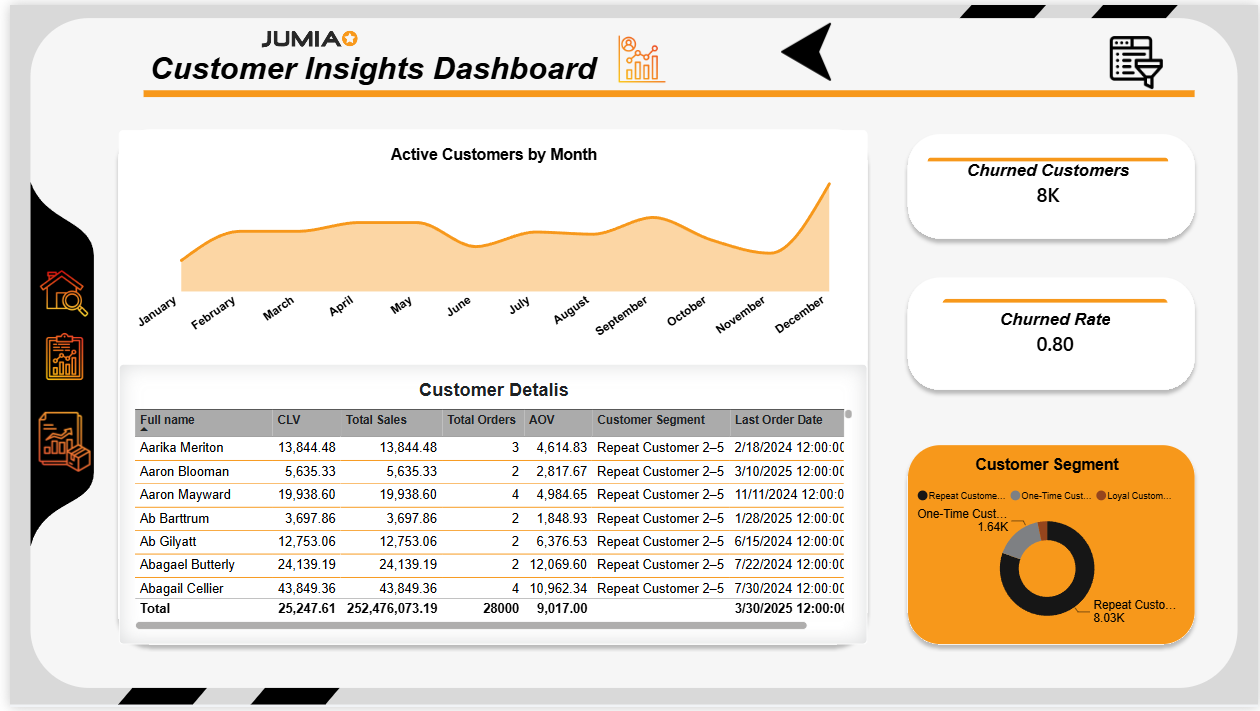

What the dashboard file says about the page in this screenshot:
{"tool":"powerbi","page":{"name":"Customer 2","canvas":[1280,720],"ordinal":3},"visuals":[{"type":"cardVisual","fields":{"Data":["customers.Churned Customers"]},"box":[928,144,272,80],"z":0},{"type":"tableEx","title":"Customer Detalis","fields":{"Values":["customers.Full name","customers.CLV","orders.Total Sales","orders.Total Orders","address.AOV","customers.Customer  Segment","customers.Last Order Date"]},"box":[112,368,768,288],"z":1000},{"type":"image","box":[193.5,0,223.7,68.6],"z":2000},{"type":"textbox","box":[96.5,52,300,150],"z":3000},{"type":"textbox","box":[144,48,576,64],"z":4000},{"type":"image","box":[560,16,176,80],"z":5000},{"type":"cardVisual","fields":{"Data":["customers.Churned Rate"]},"box":[944,288,256,96],"z":6000},{"type":"donutChart","title":"Customer  Segment","fields":{"Category":["customers.Customer  Segment"],"Y":["Count(customers.CustomerID)"]},"box":[912,448,304,208],"z":7000},{"type":"lineChart","fields":{"Y":["customers.Active Customers"],"Category":["calendar.DATE.Variation.Date Hierarchy.Month"]},"box":[112,128,768,240],"z":8000},{"type":"image","box":[720,0,192,96],"z":9000},{"type":"image","box":[1087.4,16.1,135.3,84.4],"z":10000},{"type":"image","box":[16,240,80,112],"z":18000},{"type":"image","box":[0,320,112,80],"z":19000},{"type":"image","box":[0,400,112,96],"z":20000}]}

Visuals, with their boxes in screenshot pixels (x1, y1, x2, y2), scaled from the page's 1280x720 canvas onto the 1260x711 screenshot:
cardVisual - customers.Churned Customers: [left=914, top=142, right=1181, bottom=221]
"Customer Detalis" tableEx: [left=110, top=363, right=866, bottom=648]
image: [left=190, top=0, right=411, bottom=68]
textbox: [left=95, top=51, right=390, bottom=199]
textbox: [left=142, top=47, right=709, bottom=111]
image: [left=551, top=16, right=724, bottom=95]
cardVisual - customers.Churned Rate: [left=929, top=284, right=1181, bottom=379]
"Customer  Segment" donutChart: [left=898, top=442, right=1197, bottom=648]
lineChart - customers.Active Customers x calendar.DATE.Variation.Date Hierarchy.Month: [left=110, top=126, right=866, bottom=363]
image: [left=709, top=0, right=898, bottom=95]
image: [left=1070, top=16, right=1204, bottom=99]
image: [left=16, top=237, right=94, bottom=348]
image: [left=0, top=316, right=110, bottom=395]
image: [left=0, top=395, right=110, bottom=490]
